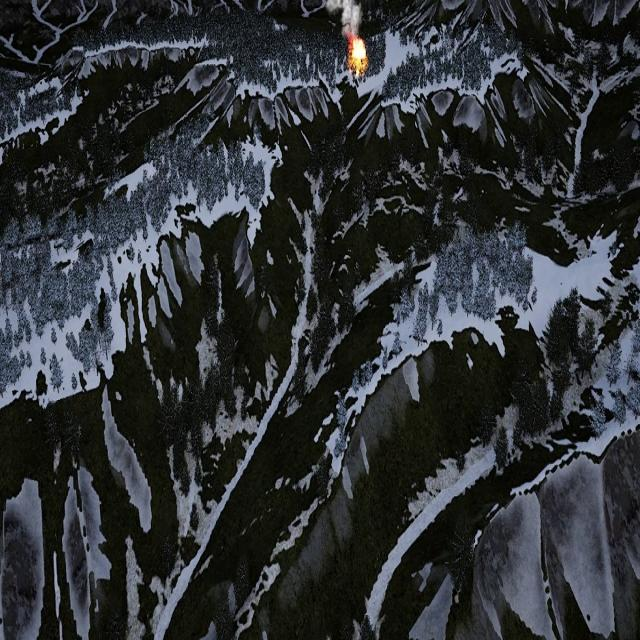fire: (349, 36, 366, 67)
smoke: (319, 0, 365, 34)
